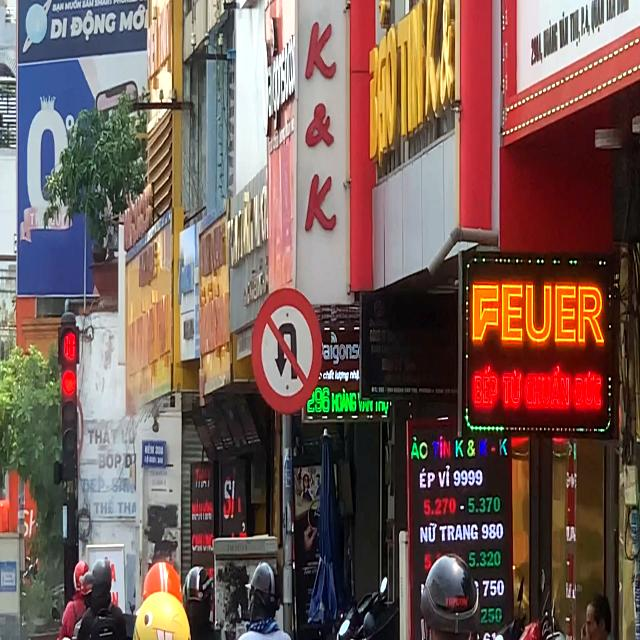P.124a: (251, 286, 322, 416)
